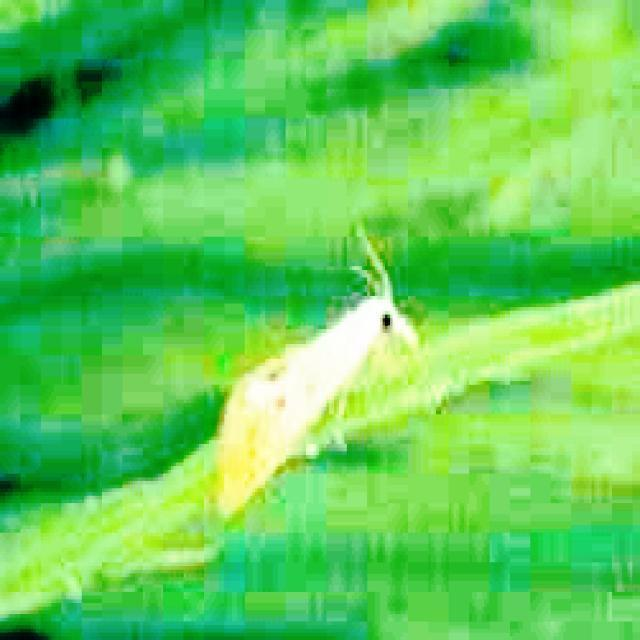stem-borer: (210, 228, 424, 528)
